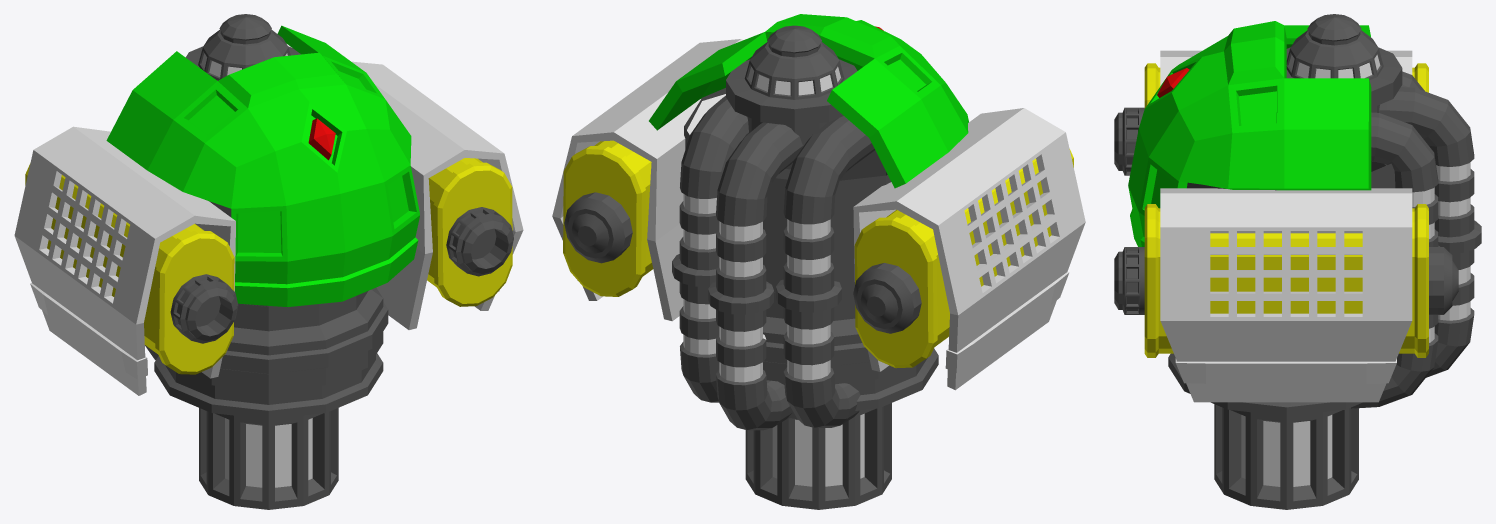
File: tower2_1.fbx
3 renders of one model, left to right at view 1: azimuth 30°, elevation 25°; view 2: azimuth 150°, elevation 25°; view 3: azimuth 270°, elevation 25°, orthographic. The views are drawn at different scales.
Visible parts, largest first — view 1: polySurface54; view 2: polySurface54; view 3: polySurface54.
Boxes of the visible parts, <box> form: polySurface54: <box>14,14,523,509</box>; polySurface54: <box>552,14,1085,509</box>; polySurface54: <box>1114,14,1481,509</box>.
Size of the model in its own units: 0.682 by 0.7507 by 0.5409.
